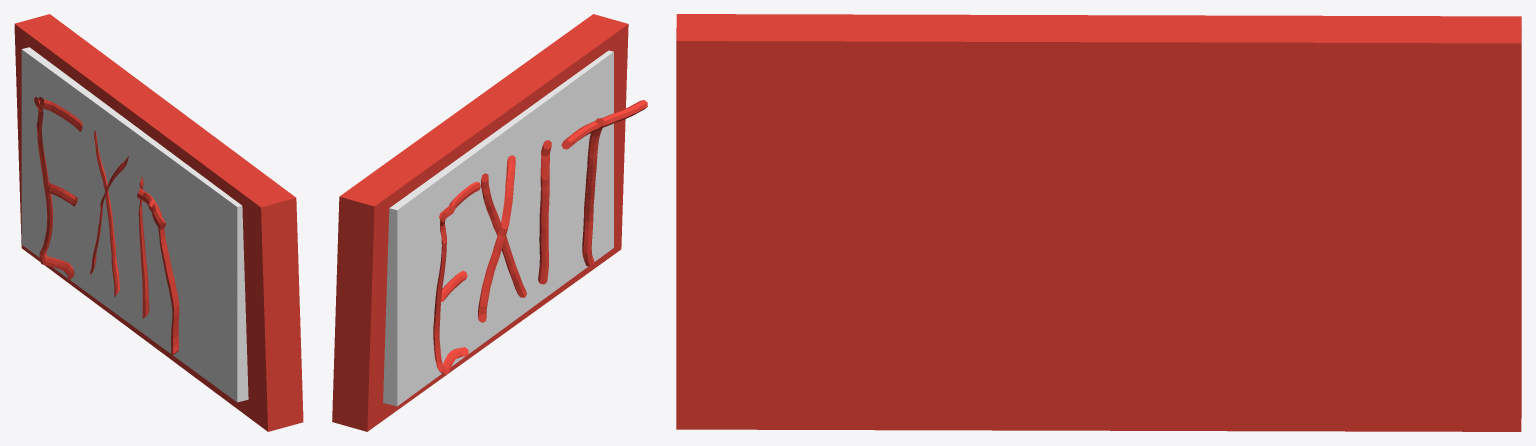
The picture shows the model from 3 angles, left to right: view 1: azimuth 30°, elevation 25°; view 2: azimuth 150°, elevation 25°; view 3: azimuth 270°, elevation 25°; orthographic projection. The views are drawn at different scales.
Visible parts, largest first — view 1: mesh_500418347, mesh_809870916, group_1623958043, group_1737714440, group_1544073536, group_50618282, group_165896650, group_150148702, group_991370912, group_93617701; view 2: mesh_500418347, mesh_809870916, group_150148702, group_1737714440, group_50618282, group_1623958043, group_1544073536, group_991370912, group_165896650, group_93617701; view 3: mesh_809870916.
Part boxes in pixels (<box>): mesh_500418347: <box>21,47,248,402</box>; mesh_809870916: <box>14,14,303,431</box>; group_1623958043: <box>34,97,74,279</box>; group_1737714440: <box>148,200,179,355</box>; group_1544073536: <box>94,130,119,296</box>; group_50618282: <box>138,176,149,318</box>; group_165896650: <box>38,97,82,131</box>; group_150148702: <box>90,156,128,274</box>; group_991370912: <box>137,189,165,230</box>; group_93617701: <box>46,183,77,206</box>; mesh_500418347: <box>383,50,613,406</box>; mesh_809870916: <box>332,14,628,431</box>; group_150148702: <box>478,155,515,322</box>; group_1737714440: <box>582,118,604,266</box>; group_50618282: <box>538,140,551,284</box>; group_1623958043: <box>433,213,468,375</box>; group_1544073536: <box>481,173,526,297</box>; group_991370912: <box>561,100,647,149</box>; group_165896650: <box>439,181,480,220</box>; group_93617701: <box>440,270,467,301</box>; mesh_809870916: <box>676,14,1521,431</box>.
Bounding box in the file's own units: 76.66 × 157 × 313.
